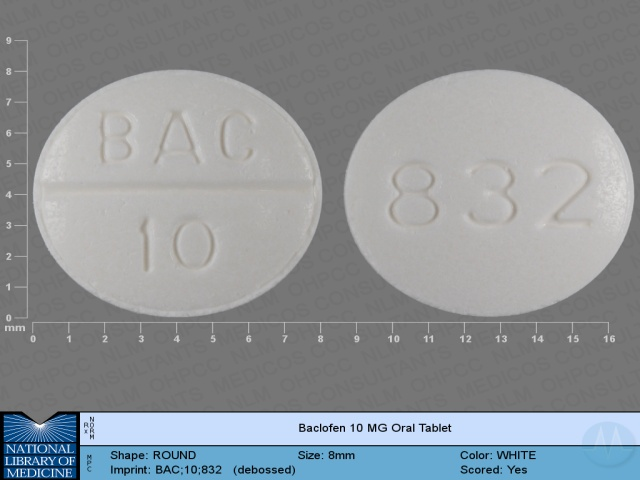0: (171, 212, 220, 275)
1: (136, 215, 156, 278)
2: (532, 158, 600, 234)
3: (464, 157, 520, 233)
8: (389, 159, 441, 231)
A: (147, 105, 205, 169)
B: (95, 110, 137, 172)
C: (216, 109, 260, 168)
